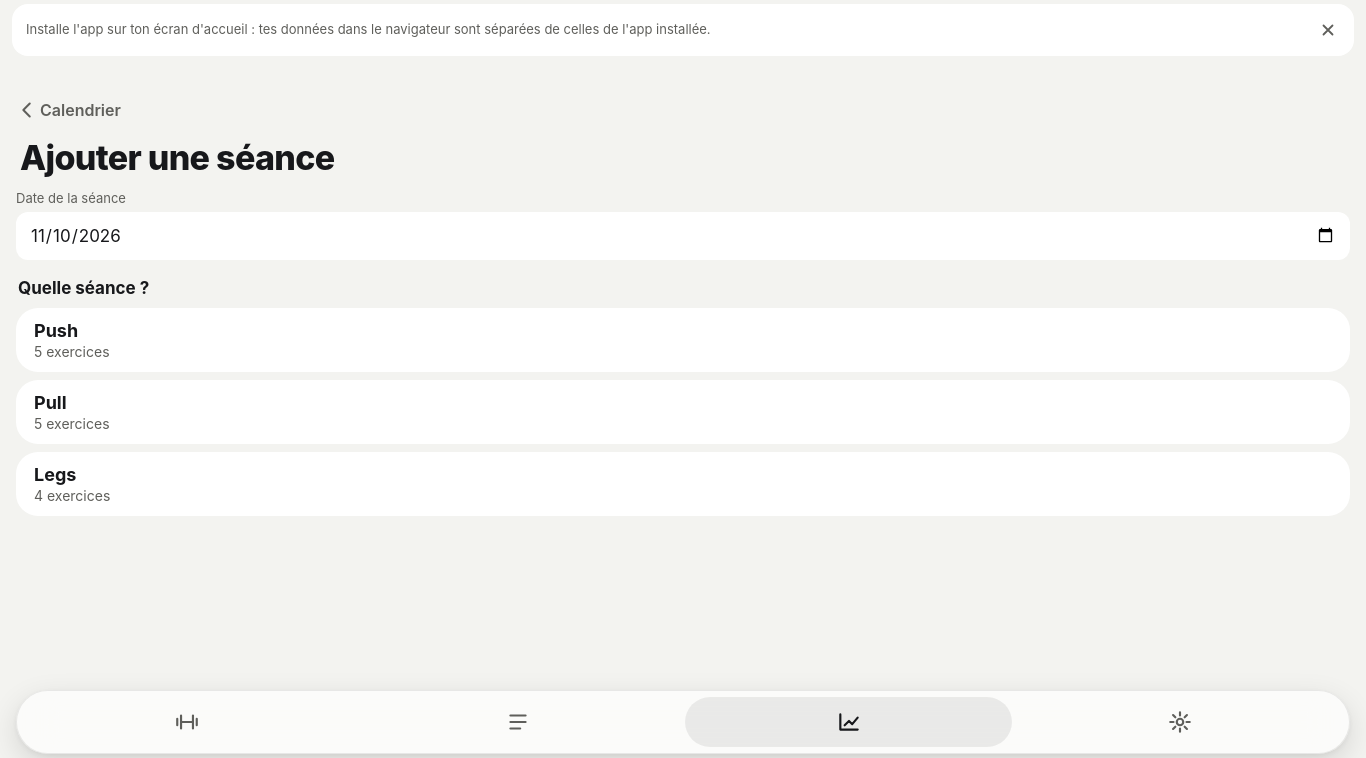
Ajouter une séance oubliée › la séance créée apparaît avec sa pastille dans le calendrier
Click the button "Push 5 exercices": (56, 330) [16,308,1350,372]
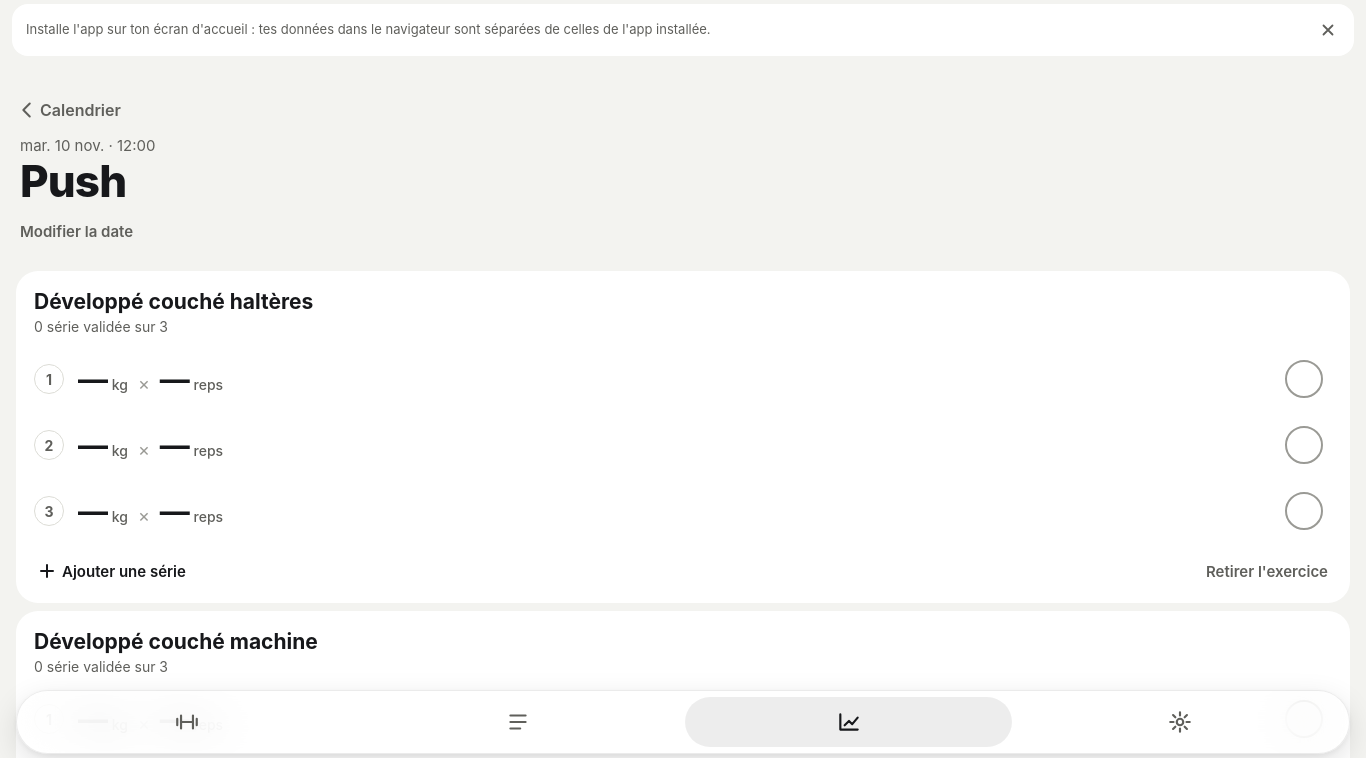
Click the button "Calendrier": (73, 110) [16,88,131,132]
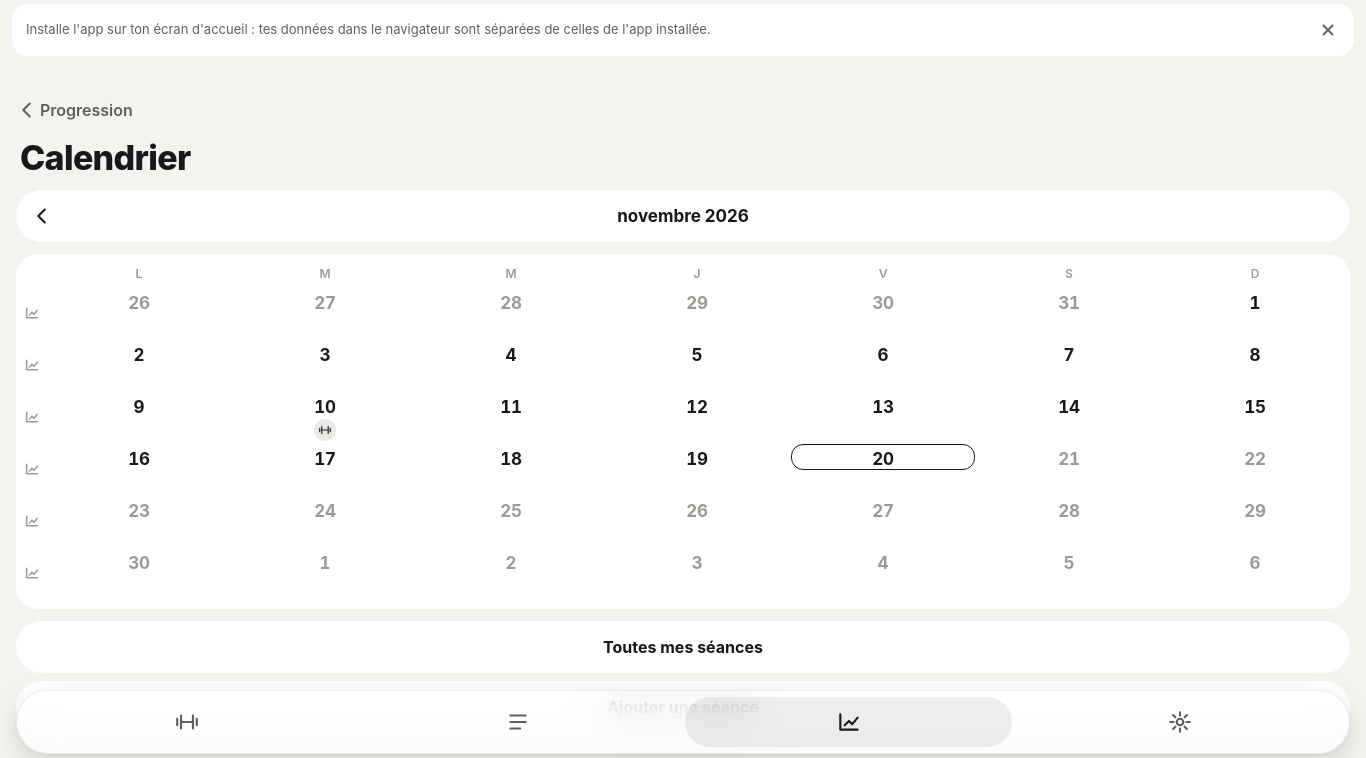
Result: the heading "novembre 2026" is shown at [617,206,749,226]
